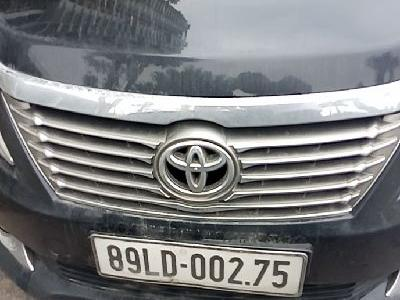car: (89, 234, 307, 297)
